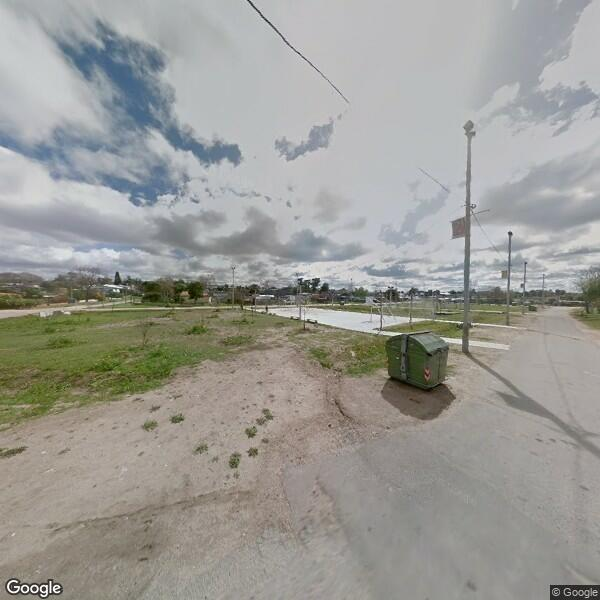Trash: (383, 326, 450, 398)
